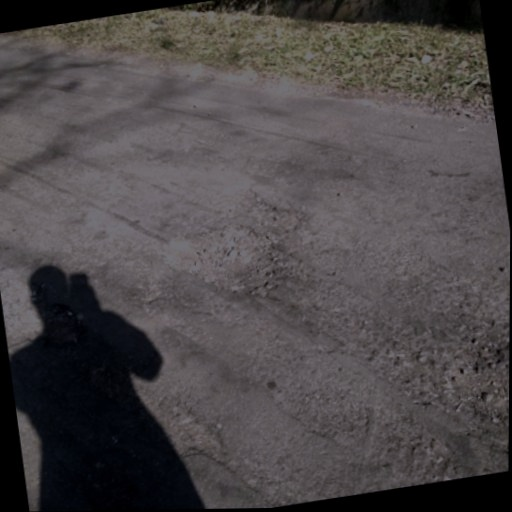pothole: (158, 216, 290, 312), (439, 345, 509, 444), (218, 177, 311, 240)
